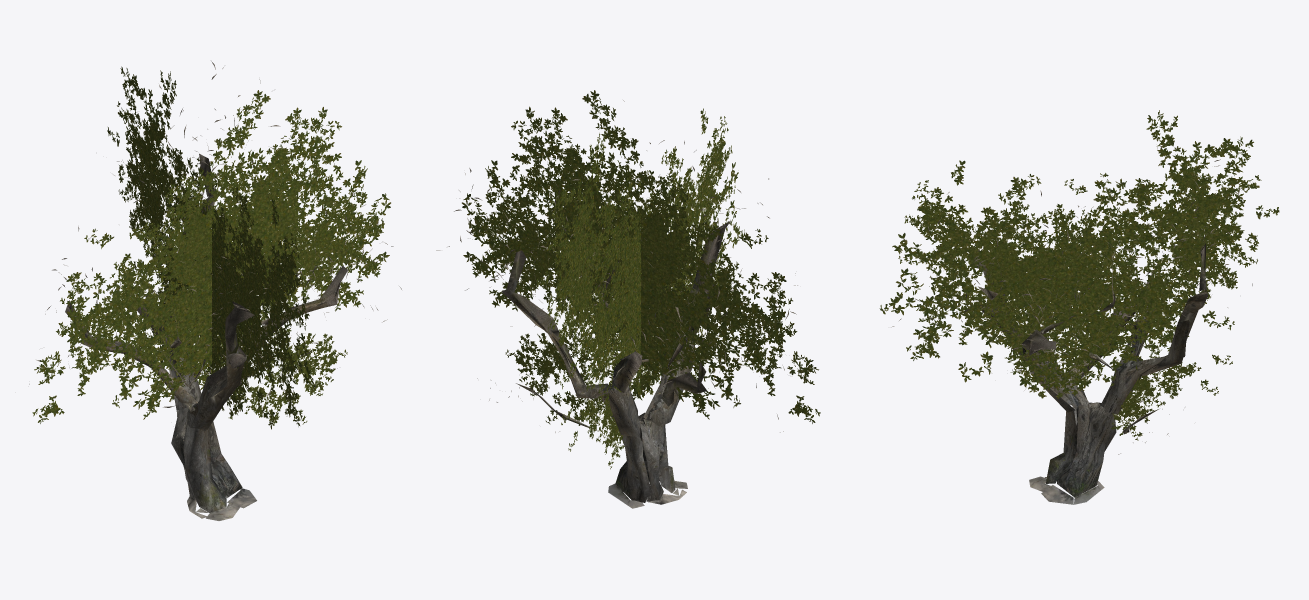
The model's file is scanned-tree.glb.
3 renders of one model, left to right at view 1: azimuth 30°, elevation 25°; view 2: azimuth 150°, elevation 25°; view 3: azimuth 270°, elevation 25°, orthographic. The views are drawn at different scales.
Parts seen in each view (by area): view 1: scanned canopy card, scanned canopy card.001, island_tree_01_LOD0.001, island_tree_01_LOD0; view 2: scanned canopy card, scanned canopy card.001, island_tree_01_LOD0.001, island_tree_01_LOD0; view 3: scanned canopy card.001, island_tree_01_LOD0.001, island_tree_01_LOD0.
Part boxes in pixels (bbox=[...]): scanned canopy card: bbox=[32, 90, 390, 425]; scanned canopy card.001: bbox=[107, 66, 316, 429]; island_tree_01_LOD0.001: bbox=[65, 153, 347, 520]; island_tree_01_LOD0: bbox=[29, 61, 401, 437]; scanned canopy card: bbox=[462, 90, 820, 425]; scanned canopy card.001: bbox=[536, 108, 745, 469]; island_tree_01_LOD0.001: bbox=[502, 221, 730, 508]; island_tree_01_LOD0: bbox=[436, 100, 797, 432]; scanned canopy card.001: bbox=[879, 110, 1279, 440]; island_tree_01_LOD0.001: bbox=[975, 240, 1208, 504]; island_tree_01_LOD0: bbox=[891, 146, 1252, 454].
Bounding box in the file's own units: 5.15 × 5.15 × 5.15.
4 materials, 4 textured.
